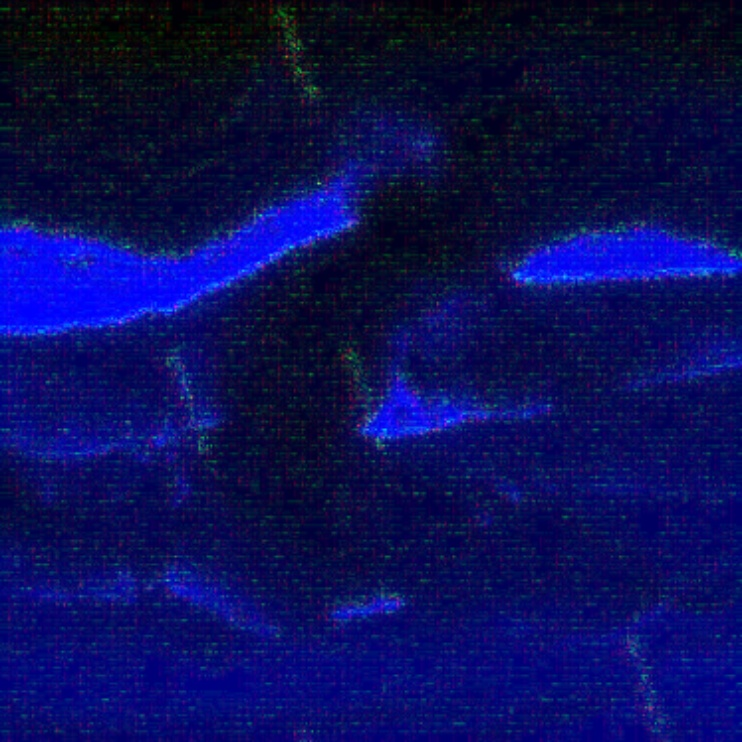rip_current: (147, 164, 654, 634)
